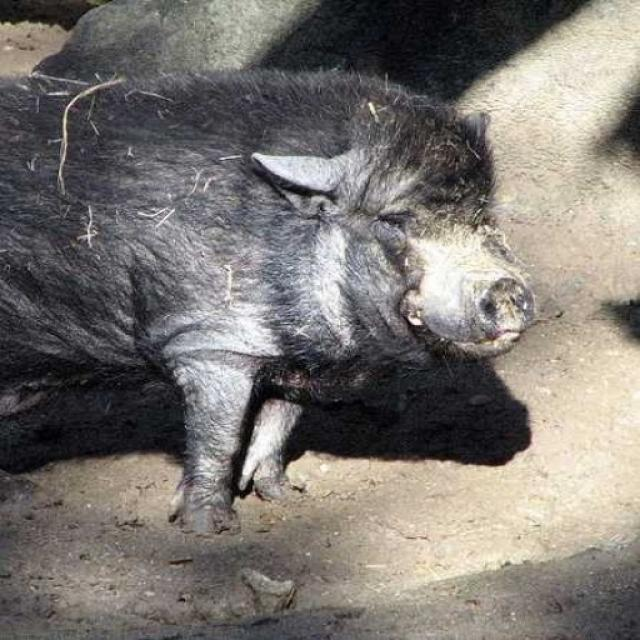pig: (11, 41, 525, 486)
